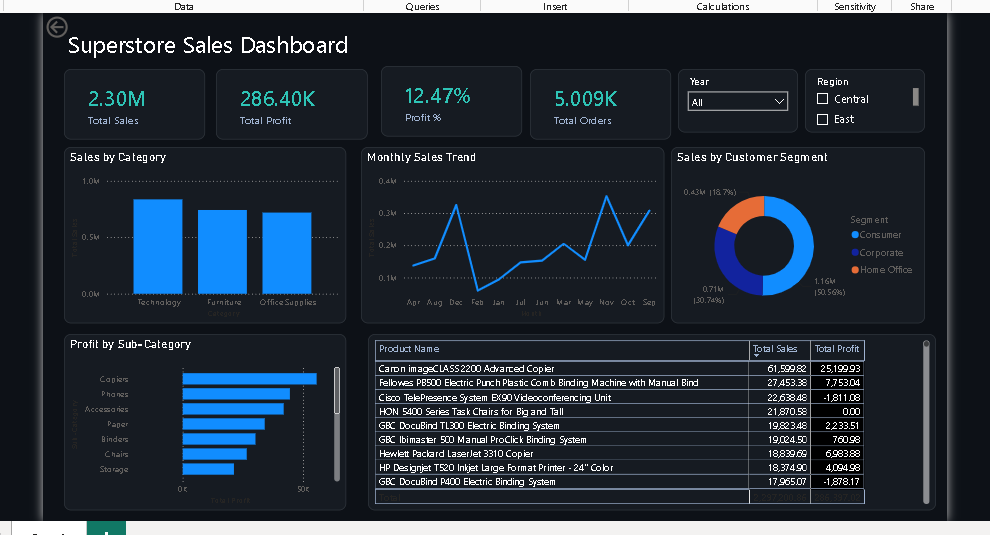

Layout of this report page (visuals, bound fields, positions):
{"tool":"powerbi","page":{"name":"Page 1","canvas":[1280,720],"ordinal":0},"visuals":[{"type":"cardVisual","fields":{"Data":["Calendar.Total Sales"]},"box":[29.8,79.4,200,100],"z":0},{"type":"cardVisual","fields":{"Data":["Calendar.Total Profit"]},"box":[245.2,79.4,215.4,100],"z":1000},{"type":"cardVisual","fields":{"Data":["Calendar.Profit %"]},"box":[479.1,75.1,200,100],"z":2000},{"type":"cardVisual","fields":{"Data":["Calendar.Total Orders"]},"box":[690.2,79.4,200,100],"z":3000},{"type":"clusteredColumnChart","title":"Sales by Category","fields":{"Category":["Products.Category"],"Y":["Orders.Total Sales"]},"box":[30,190,400,250],"z":4000},{"type":"lineChart","title":"Monthly Sales Trend","fields":{"Category":["Calendar.Month"],"Y":["Orders.Total Sales"]},"box":[450.7,189.9,430,250],"z":5000},{"type":"donutChart","title":" Sales by Customer Segment","fields":{"Category":["Customers.Segment"],"Y":["Orders.Total Sales"]},"box":[890,190,360,250],"z":6000},{"type":"tableEx","title":"Top Product by Sales","fields":{"Values":["Products.Product Name","Orders.Total Sales","Orders.Total Profit"]},"box":[460.6,455,805,250],"z":7000},{"type":"clusteredBarChart","title":"Profit by Sub-Category","fields":{"Category":["Products.Sub-Category"],"Y":["Orders.Total Profit"]},"box":[30,455,400,250],"z":8000},{"type":"slicer","fields":{"Values":["Orders.Region"]},"box":[1080,80,170,90],"z":9000},{"type":"actionButton","box":[0,0,100,40],"z":10000},{"type":"slicer","fields":{"Values":["Calendar.Year"]},"box":[900,80,170,90],"z":11000},{"type":"textbox","box":[30,15,435.1,59.5],"z":12000}]}

Visuals, with their boxes on the page's 1280x720 design canvas (x1, y1, x2, y2). These are canvas units, not pixel positions in the 990x535 screenshot, which may show the page scaled, cropped or inside an application window:
cardVisual - Calendar.Total Sales: x1=30 y1=79 x2=230 y2=179
cardVisual - Calendar.Total Profit: x1=245 y1=79 x2=461 y2=179
cardVisual - Calendar.Profit %: x1=479 y1=75 x2=679 y2=175
cardVisual - Calendar.Total Orders: x1=690 y1=79 x2=890 y2=179
"Sales by Category" clusteredColumnChart: x1=30 y1=190 x2=430 y2=440
"Monthly Sales Trend" lineChart: x1=451 y1=190 x2=881 y2=440
" Sales by Customer Segment" donutChart: x1=890 y1=190 x2=1250 y2=440
"Top Product by Sales" tableEx: x1=461 y1=455 x2=1266 y2=705
"Profit by Sub-Category" clusteredBarChart: x1=30 y1=455 x2=430 y2=705
slicer - Orders.Region: x1=1080 y1=80 x2=1250 y2=170
actionButton: x1=0 y1=0 x2=100 y2=40
slicer - Calendar.Year: x1=900 y1=80 x2=1070 y2=170
textbox: x1=30 y1=15 x2=465 y2=74
